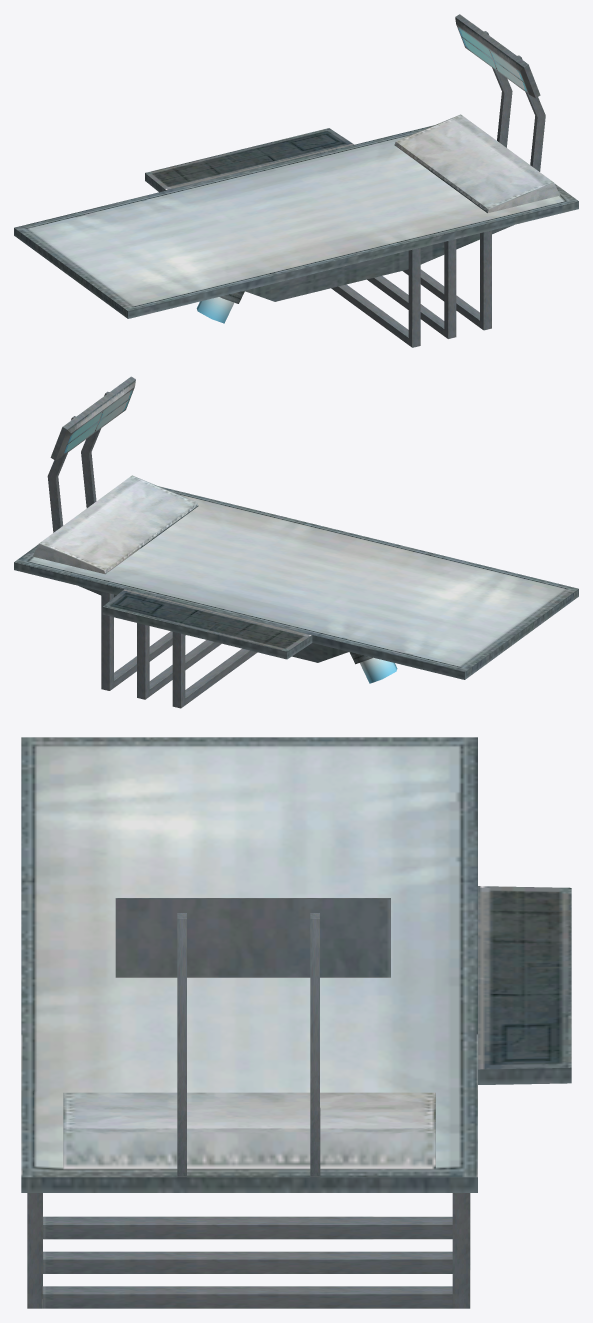
File: eqp_camping_cot_s3_l0.fbx
3 views of the same model, one above another, from view 1: azimuth 30°, elevation 25°; view 2: azimuth 150°, elevation 25°; view 3: azimuth 270°, elevation 25° (orthographic). The views are drawn at different scales.
Parts seen in each view (by area): view 1: mesh_node; view 2: mesh_node; view 3: mesh_node.
Boxes of the visible parts, x1=… form: mesh_node: x1=14, y1=14, x2=578, y2=347; mesh_node: x1=14, y1=376, x2=578, y2=708; mesh_node: x1=21, y1=737, x2=571, y2=1308.
Size of the model in its own units: 1.97 by 0.9651 by 1.03.
